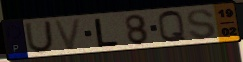8: (123, 13, 150, 47)
L: (93, 17, 121, 48)
Q: (156, 9, 189, 45)
S: (185, 8, 218, 41)
U: (24, 20, 55, 54)
V: (52, 17, 84, 53)
